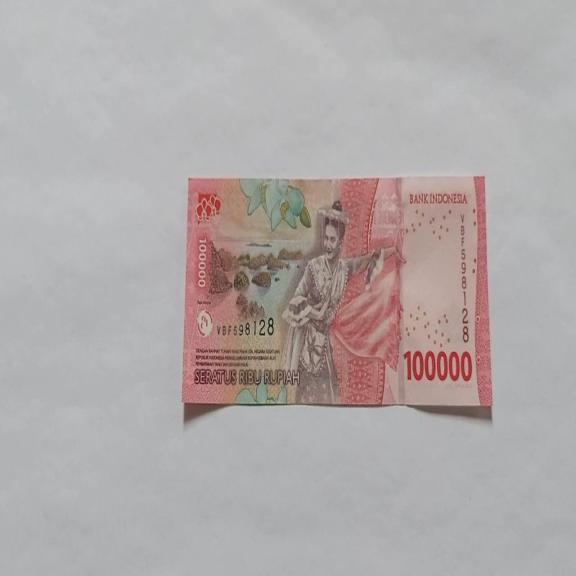Kertas: (182, 175, 492, 412), (403, 347, 472, 383)
